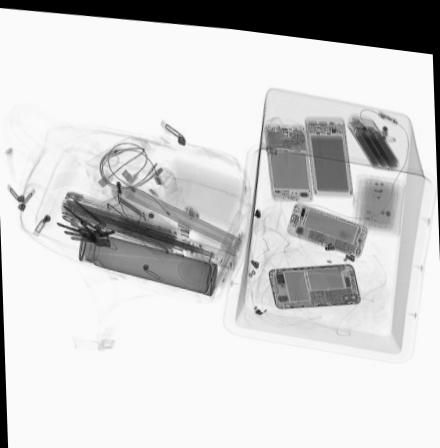Powerbank: (304, 107, 353, 185)
